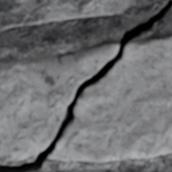brick: (0, 0, 152, 30)
broken_brick: (48, 36, 171, 160), (0, 42, 119, 159)
crack: (0, 0, 171, 171)
